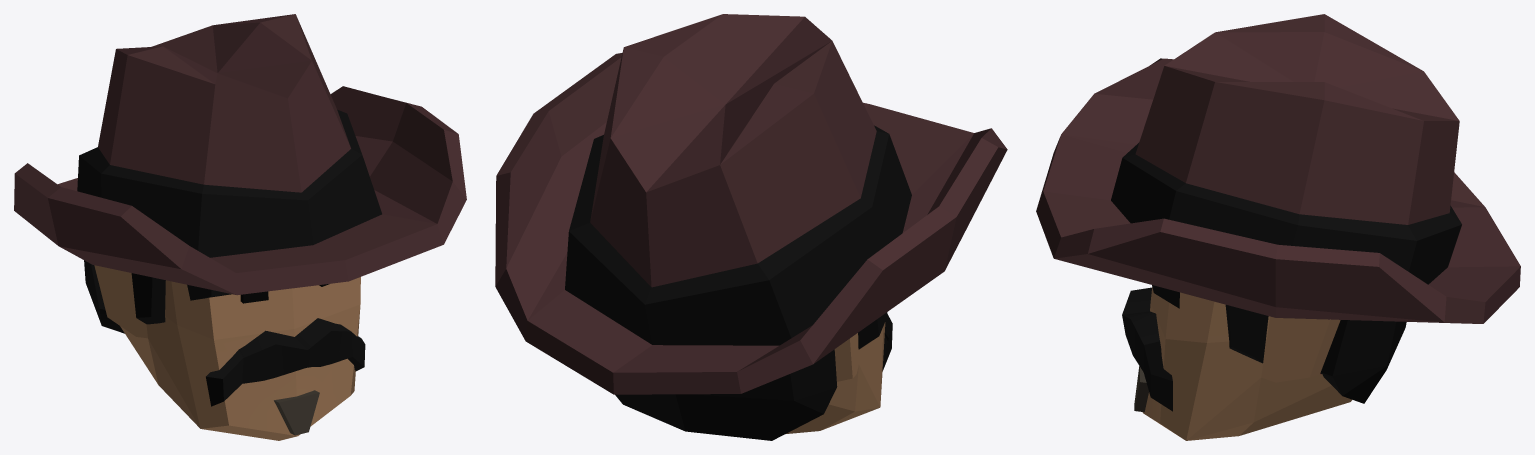
The model's file is SheriffHead.fbx.
The picture shows the model from 3 angles, left to right: view 1: azimuth 30°, elevation 25°; view 2: azimuth 150°, elevation 25°; view 3: azimuth 270°, elevation 25°; orthographic projection. The views are drawn at different scales.
Visible parts, largest first — view 1: Character_Sheriff_01_Head; view 2: Character_Sheriff_01_Head; view 3: Character_Sheriff_01_Head.
Boxes of the visible parts, x1,y1,x2,y2 form: Character_Sheriff_01_Head: (14, 14, 466, 440); Character_Sheriff_01_Head: (495, 14, 1007, 440); Character_Sheriff_01_Head: (1036, 14, 1520, 440).
Size of the model in its own units: 42.06 by 38.37 by 44.89.
